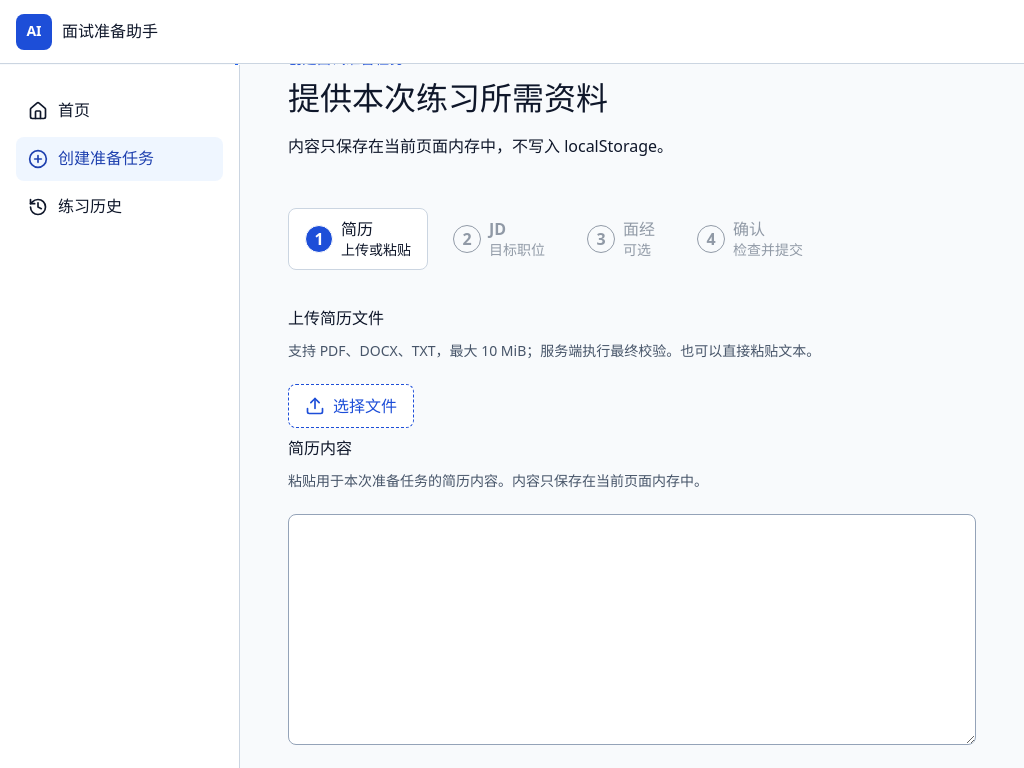
it: routes, deep links and component state › supports the full multi-step form and disables duplicate submission
(page scrolled)
In the text box labelled "简历内容": (632, 629) top-left (288, 514), bottom-right (976, 745), type "这是仅用于合同测试的合成简历内容。Java 后端开发。 "
(page scrolled)
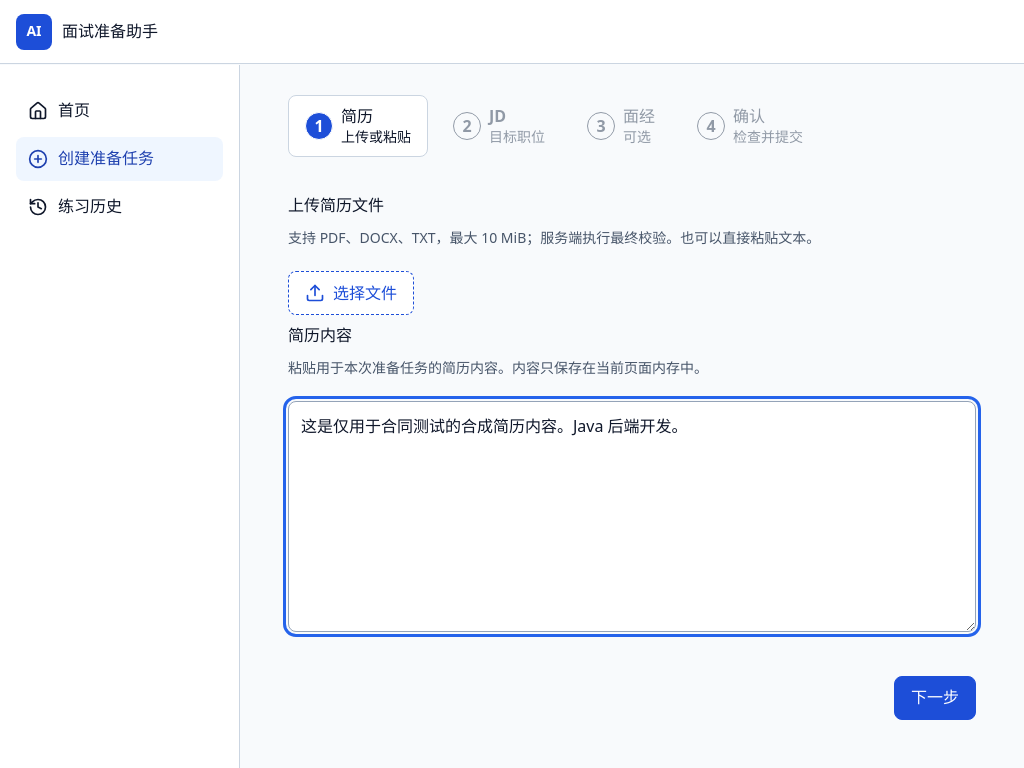
Click the button "下一步": (935, 698) top-left (894, 676), bottom-right (976, 720)
(page scrolled)
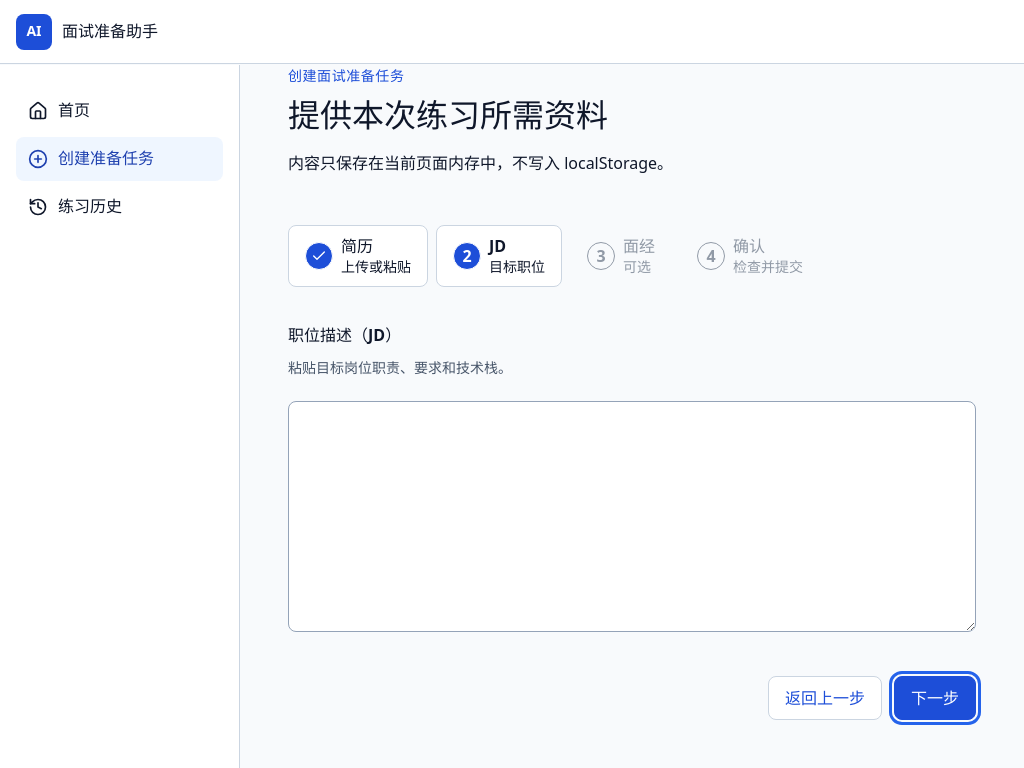
In the text box labelled "职位描述（JD）": (632, 516) top-left (288, 401), bottom-right (976, 632), type "这是仅用于合同测试的合成职位描述，要求后端开发。 "
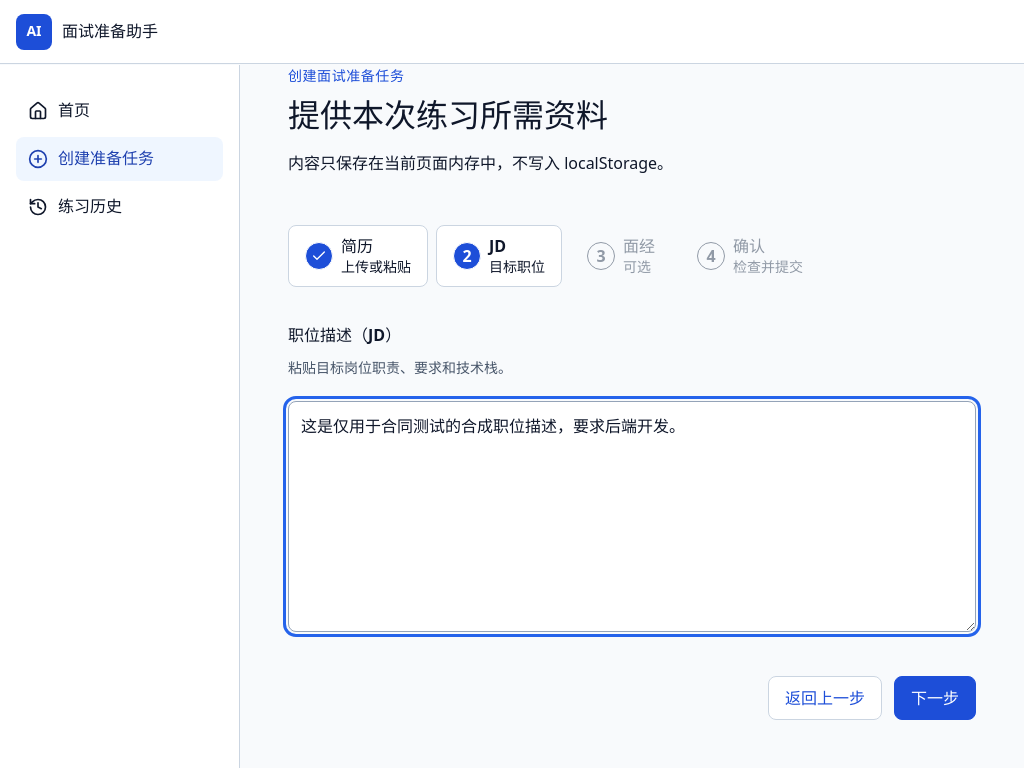
Click the button "下一步": (935, 698) top-left (894, 676), bottom-right (976, 720)
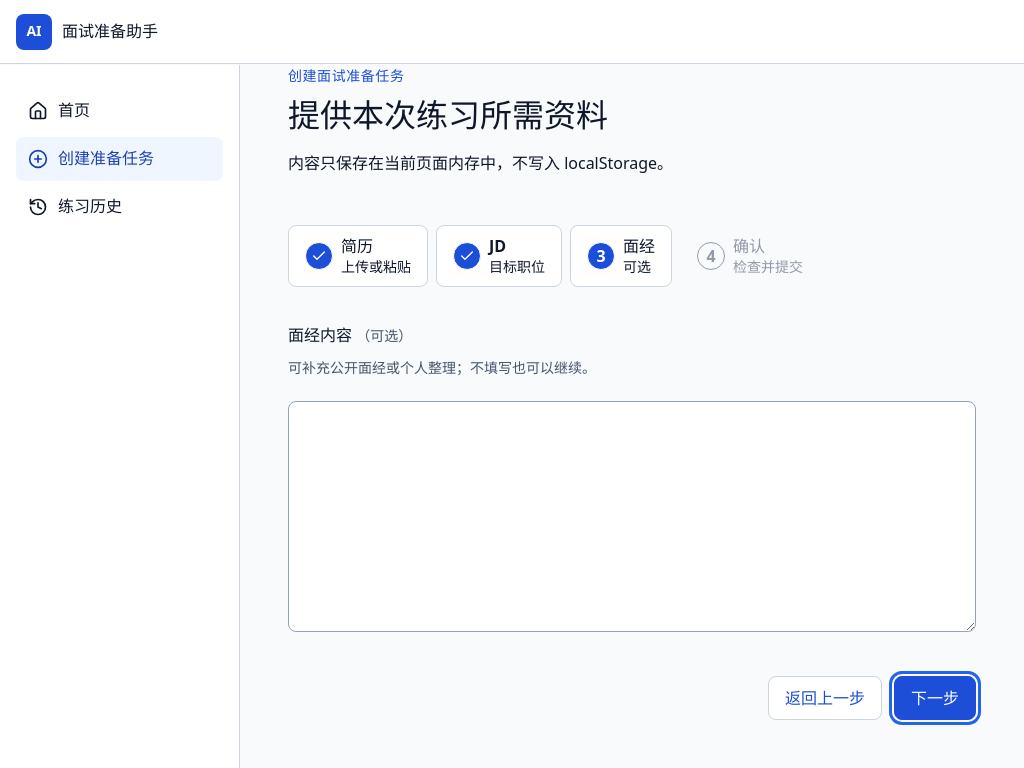
Result: the text box labelled "面经内容 （可选）" is shown at top-left (288, 401), bottom-right (976, 632)
Click the button "下一步": (935, 698) top-left (894, 676), bottom-right (976, 720)
(page scrolled)
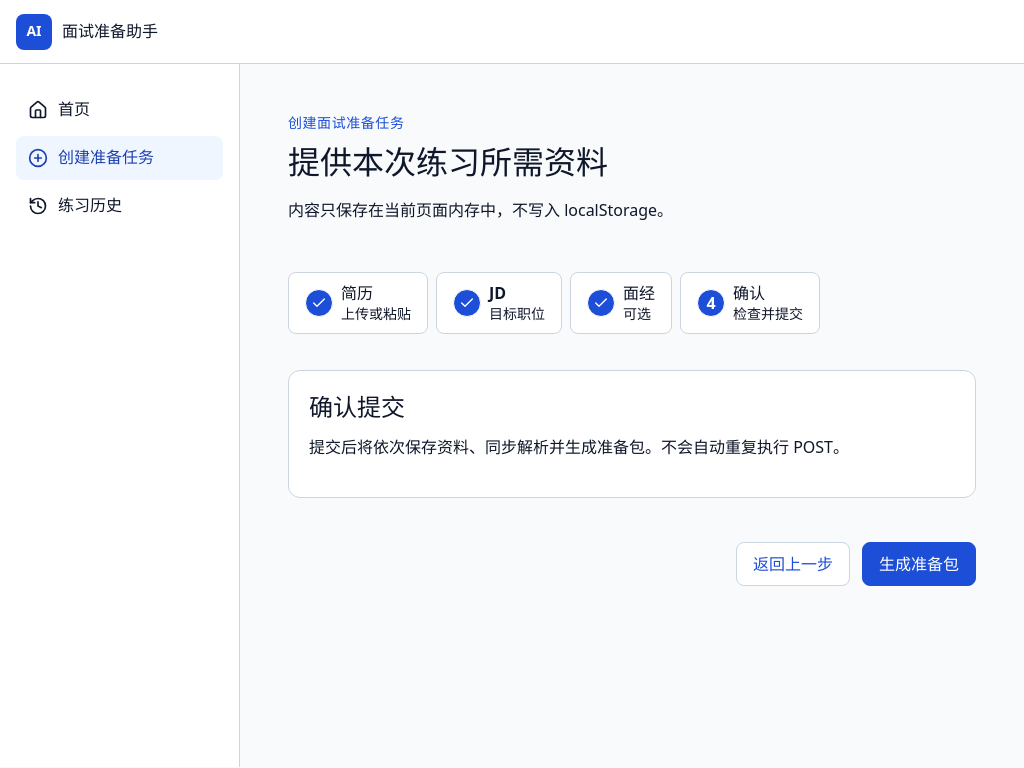
Double-click the button "生成准备包": (919, 564) top-left (862, 542), bottom-right (976, 586)
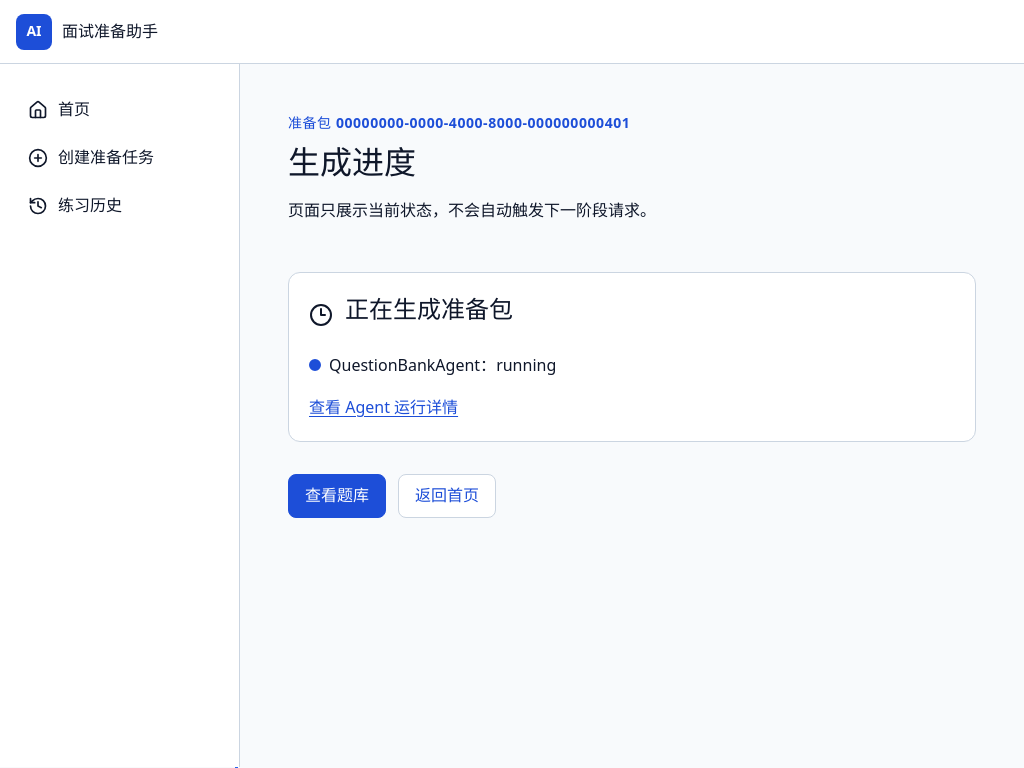
Result: the heading "生成进度" is shown at top-left (288, 140), bottom-right (416, 183)
